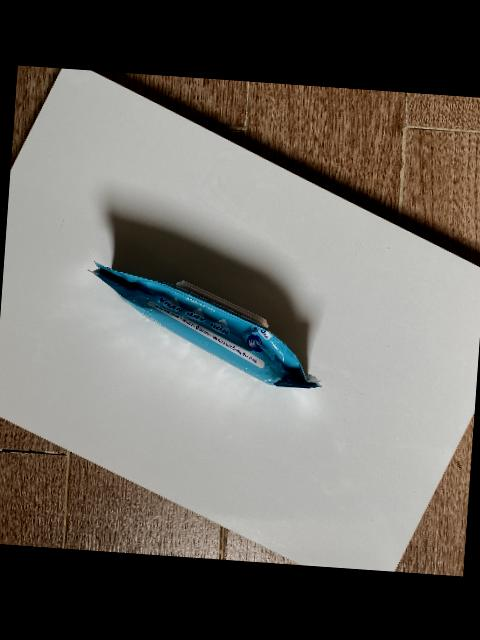Let-green_alcohol_wipes: (93, 263, 322, 388)
